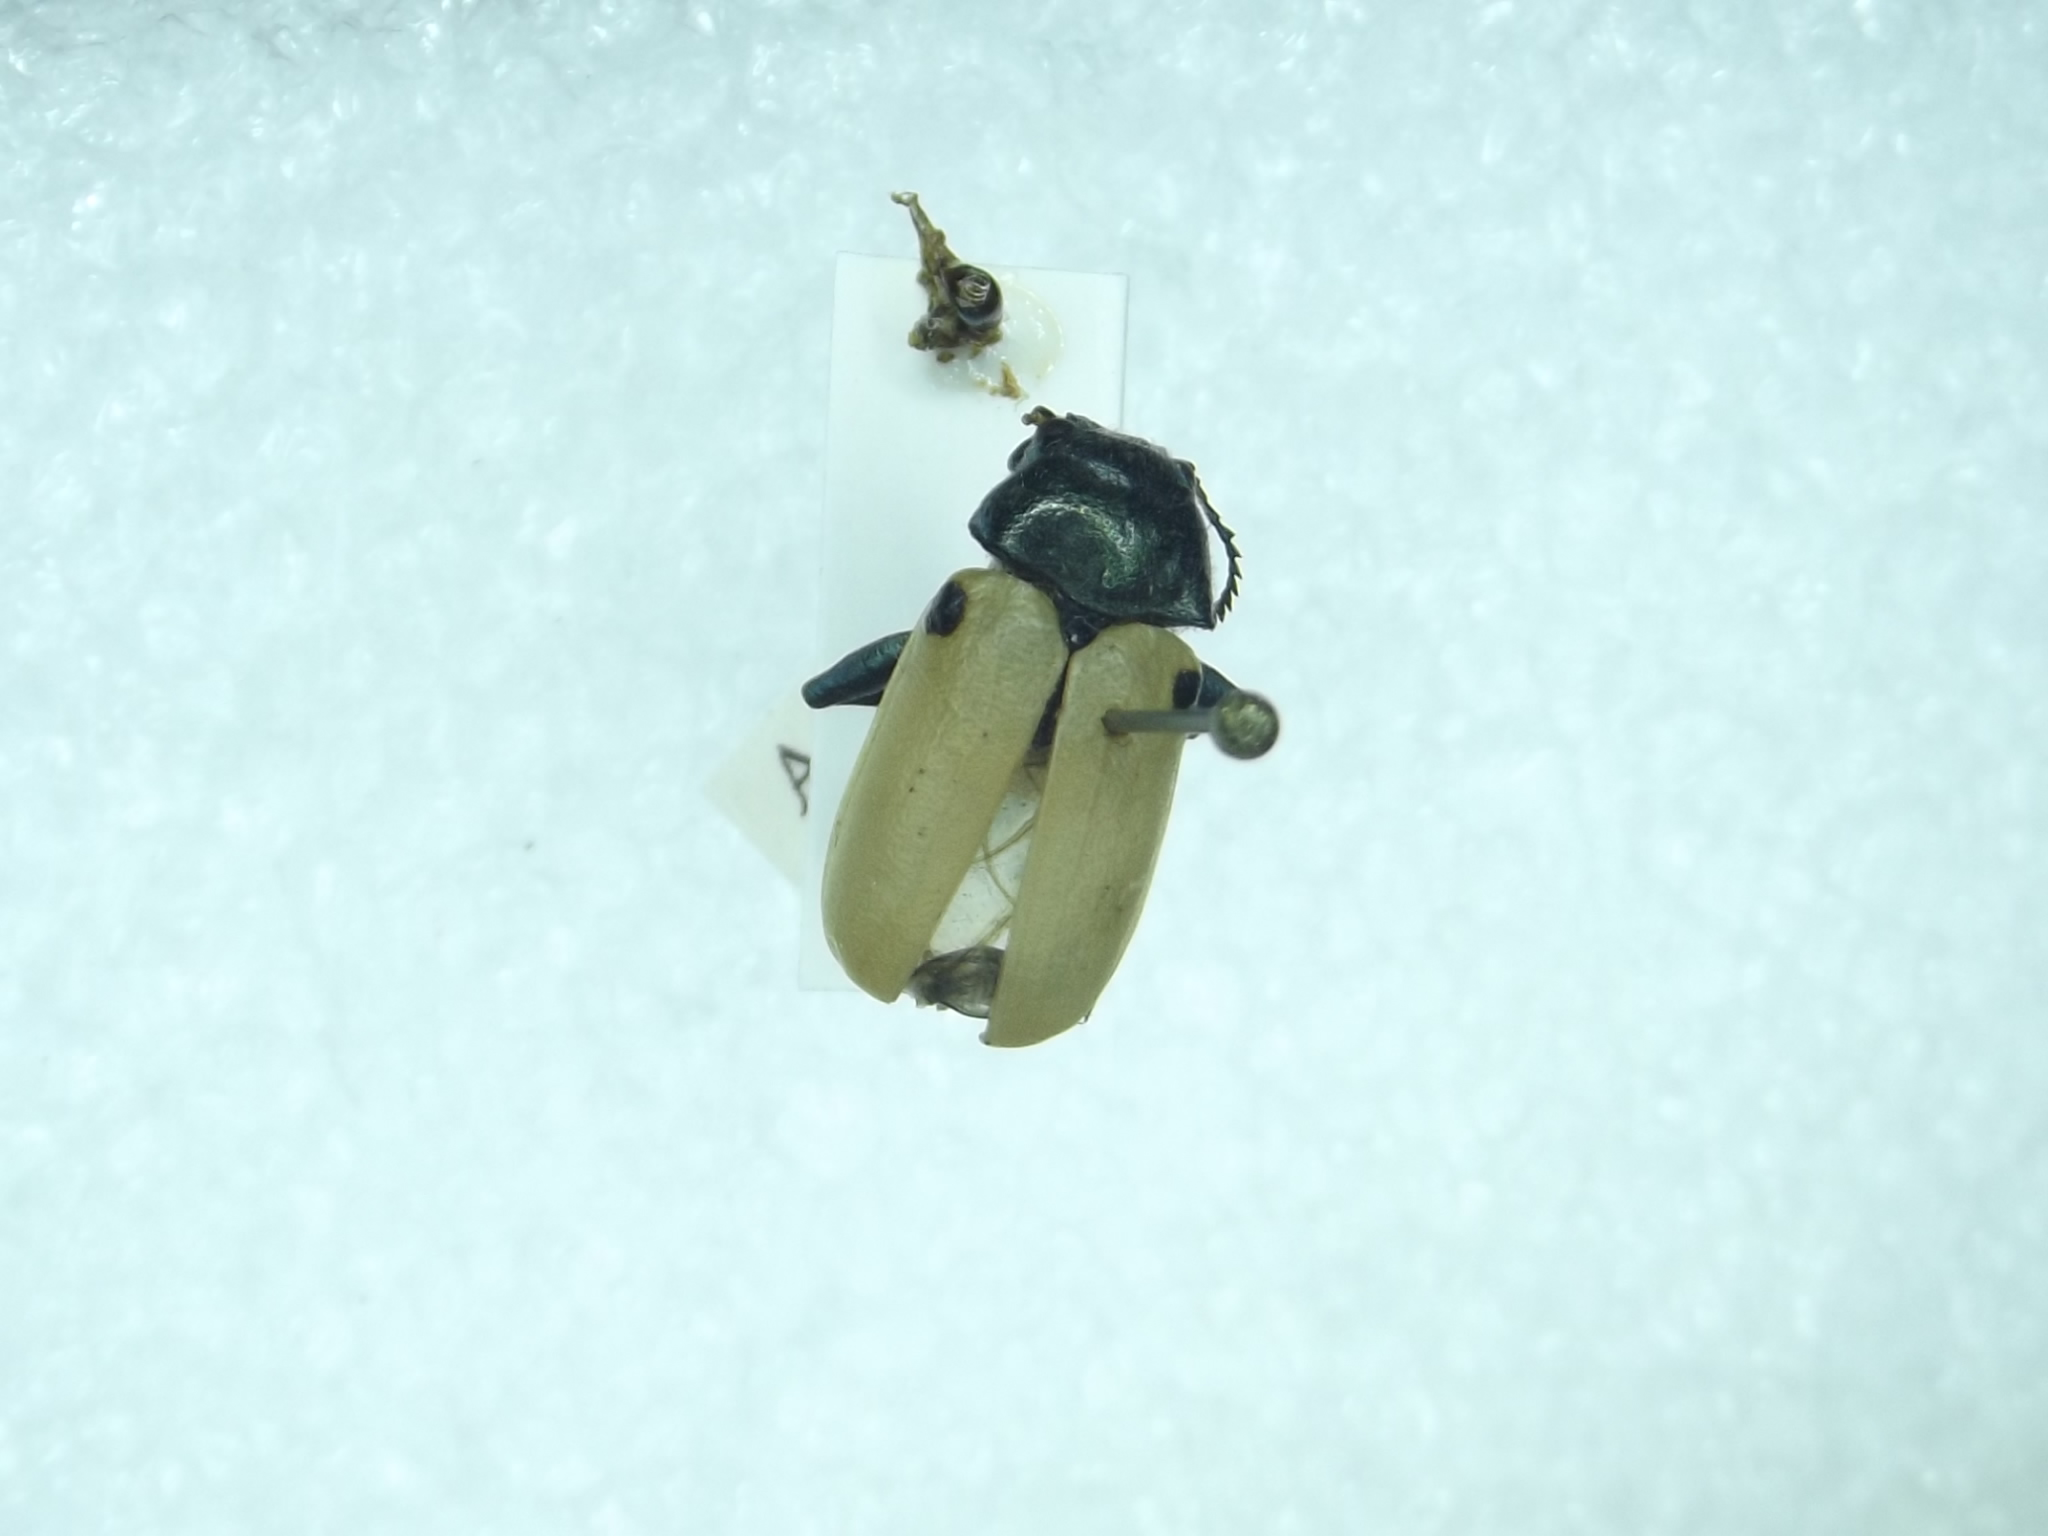Labidostomis_asiatica: (785, 390, 1243, 1066)
